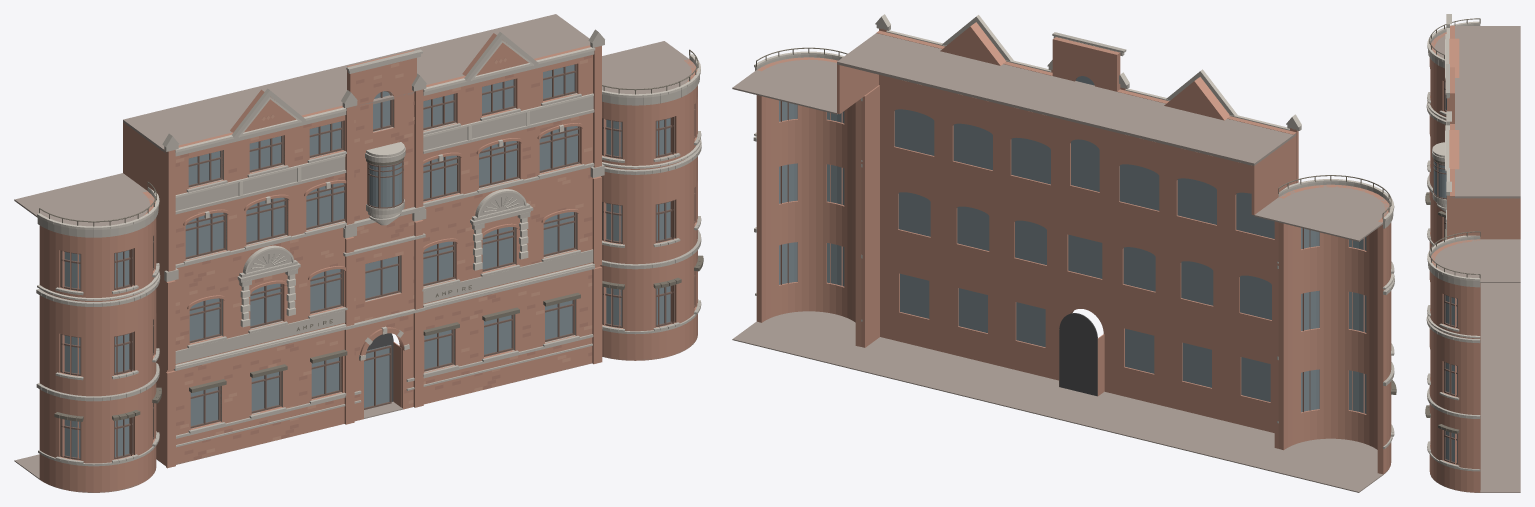
The model's file is huangpu-ampire-and-co-building-raw.glb.
The picture shows the model from 3 angles, left to right: view 1: azimuth 30°, elevation 25°; view 2: azimuth 150°, elevation 25°; view 3: azimuth 270°, elevation 25°; orthographic projection. The views are drawn at different scales.
Parts seen in each view (by area): view 1: 安培洋行大楼圆明园路主立面; view 2: 安培洋行大楼圆明园路主立面; view 3: 安培洋行大楼圆明园路主立面.
Part boxes in pixels (left/top/right/bottom): 安培洋行大楼圆明园路主立面: left=14, top=14, right=703, bottom=492; 安培洋行大楼圆明园路主立面: left=732, top=14, right=1396, bottom=492; 安培洋行大楼圆明园路主立面: left=1425, top=14, right=1520, bottom=492.
Bounding box in the file's own units: 32.32 × 16.75 × 5.04.
